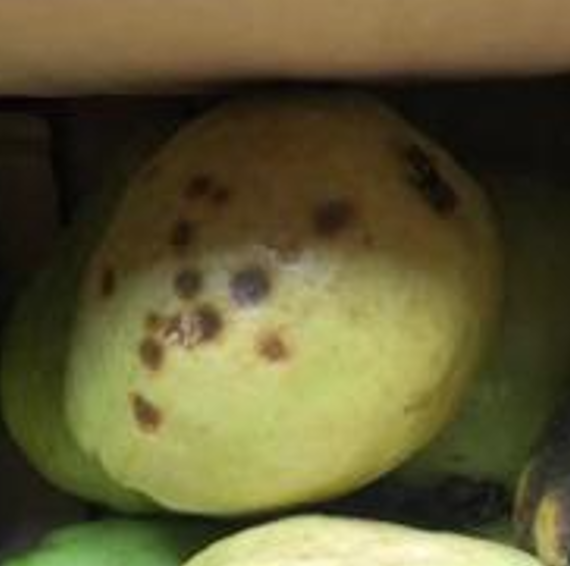guava_C: (62, 81, 504, 517)
